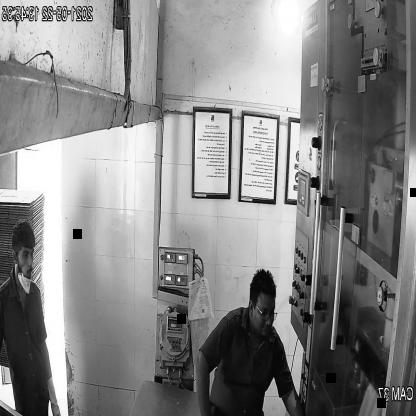goggles: (252, 303, 280, 325)
no_goggles: (14, 246, 37, 265)
